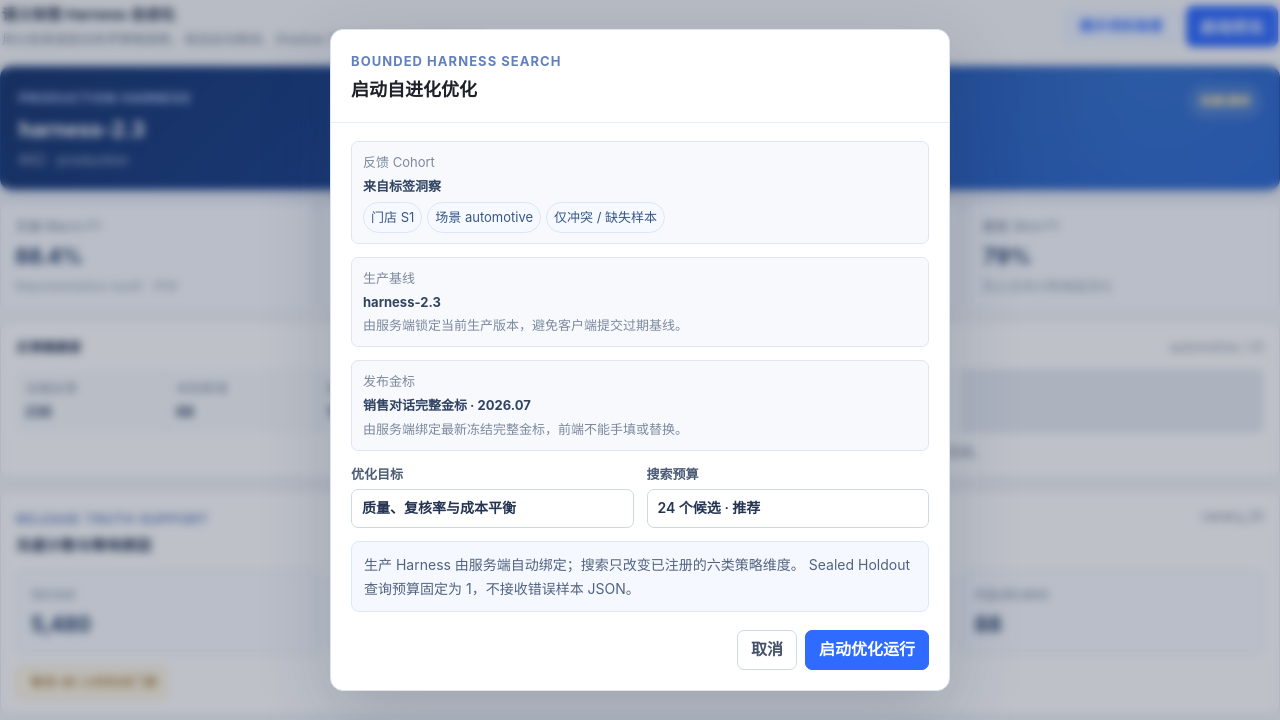
it: EvolutionPanel › starts a bounded optimization from a carried insight cohort without raw ids
The width and height of the screenshot is (1280, 720).
Expected: the dialog "启动自进化优化" shows "来自标签洞察", left=363, top=178, right=441, bottom=194
Expected: the list item "门店 S1" is shown, left=363, top=202, right=422, bottom=233
Select "质量优先" in the dropdown labelled "优化目标" at (492, 509), box left=351, top=489, right=634, bottom=528
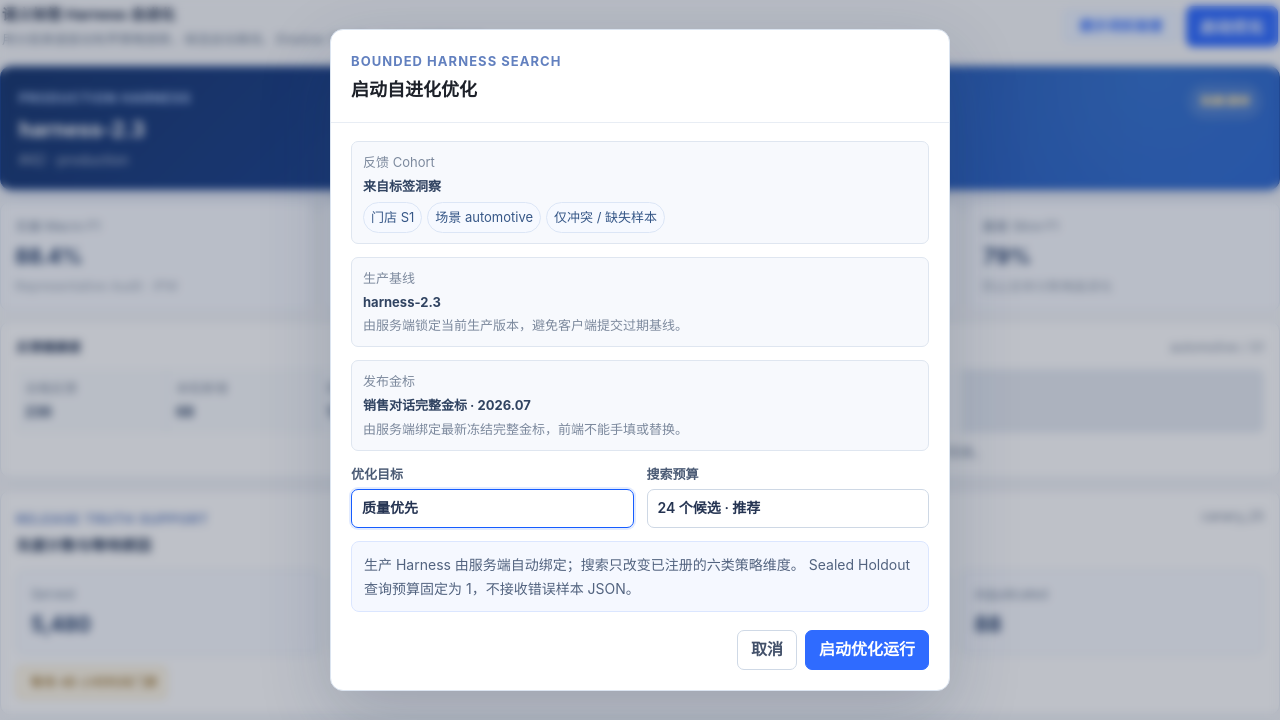
Select "16 个候选" in the dropdown labelled "搜索预算" at (788, 509), box left=646, top=489, right=929, bottom=528
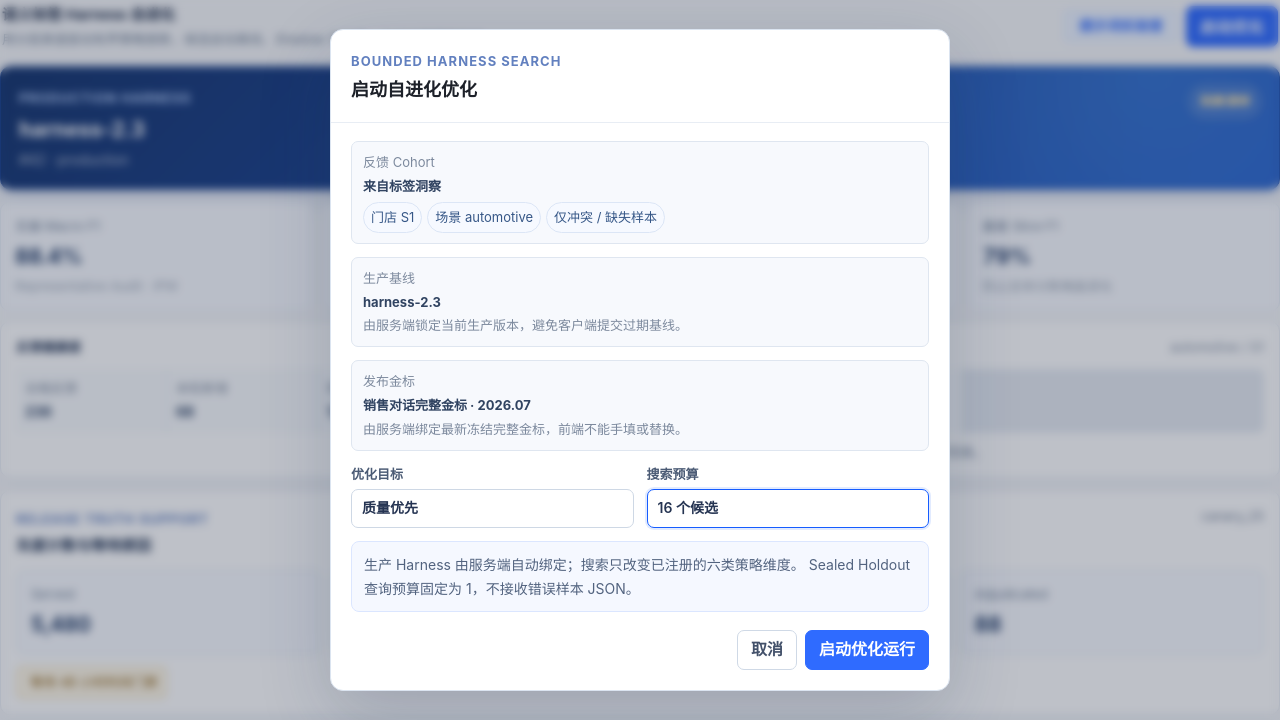
Click the button "启动优化运行" at (867, 650), box left=805, top=630, right=929, bottom=670
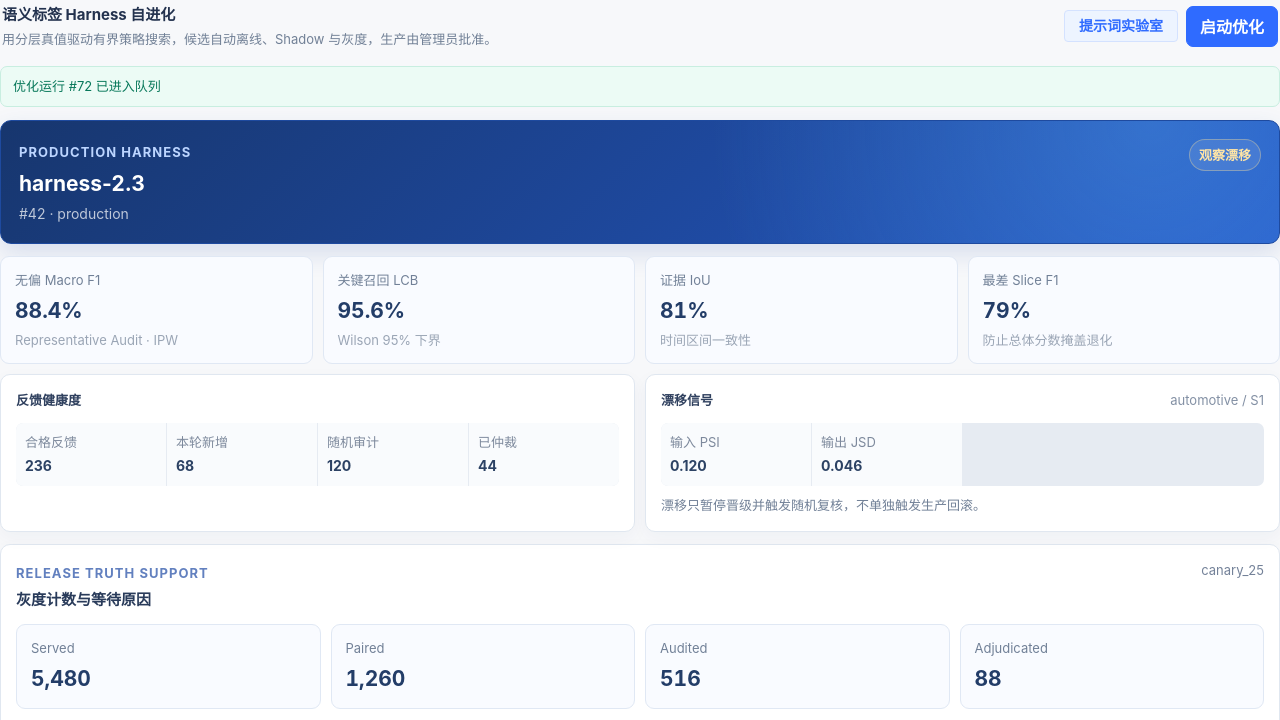
Result: the text "优化运行 #72 已进入队列" is shown at left=0, top=66, right=1279, bottom=107
